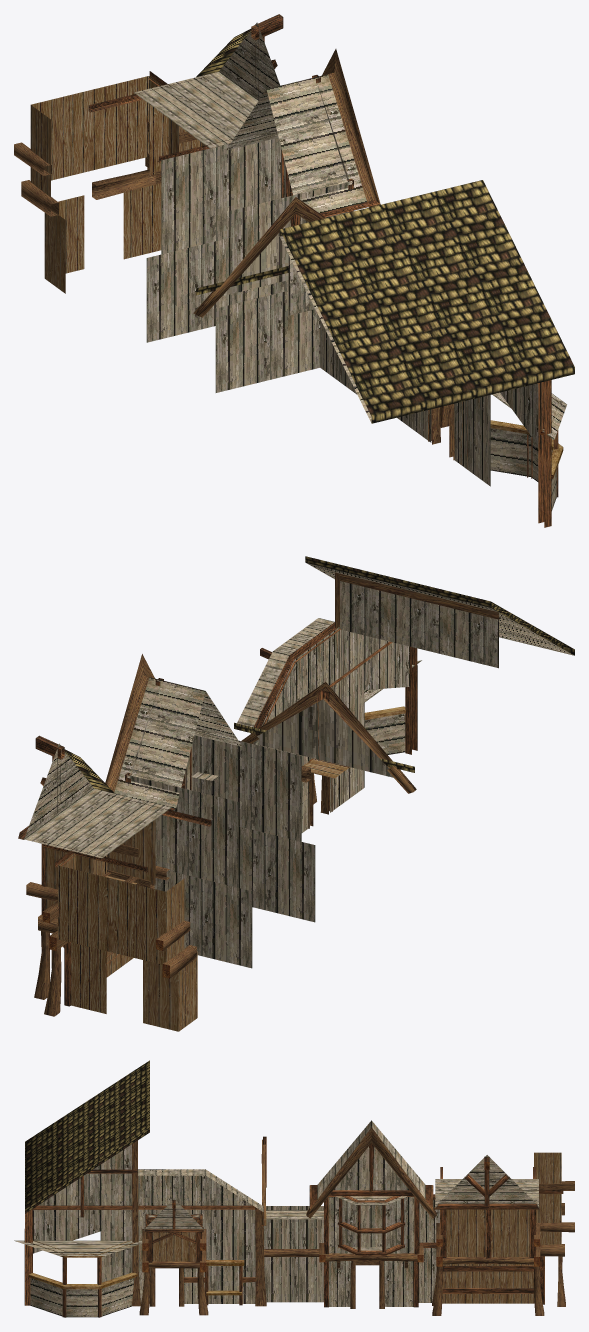
The model's file is LAKETOWN_EXTERIOR_PS_LT_PUBBLOCK99__GX.fbx.
3 renders of one model, top to bottom at view 1: azimuth 30°, elevation 25°; view 2: azimuth 150°, elevation 25°; view 3: azimuth 270°, elevation 25°, orthographic. The views are drawn at different scales.
Parts seen in each view (by area): view 1: LAKETOWN_EXTERIOR_PS_LT_PUBBLOCK99__GX; view 2: LAKETOWN_EXTERIOR_PS_LT_PUBBLOCK99__GX; view 3: LAKETOWN_EXTERIOR_PS_LT_PUBBLOCK99__GX.
Boxes of the visible parts, bbox=[...] form: LAKETOWN_EXTERIOR_PS_LT_PUBBLOCK99__GX: bbox=[14, 14, 574, 527]; LAKETOWN_EXTERIOR_PS_LT_PUBBLOCK99__GX: bbox=[18, 556, 574, 1031]; LAKETOWN_EXTERIOR_PS_LT_PUBBLOCK99__GX: bbox=[14, 1060, 574, 1317].
Size of the model in its own units: 94395 by 101721 by 269584.
12 materials, 12 textured.
